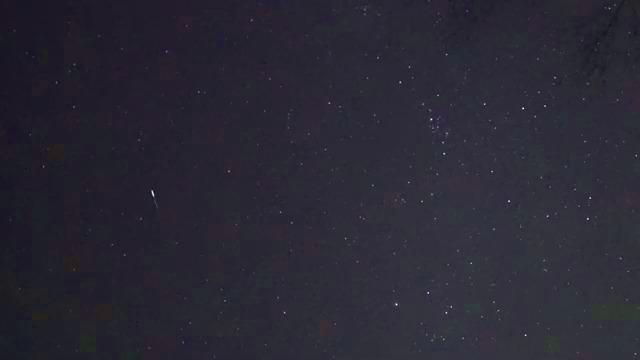meteorite: (138, 182, 170, 218)
